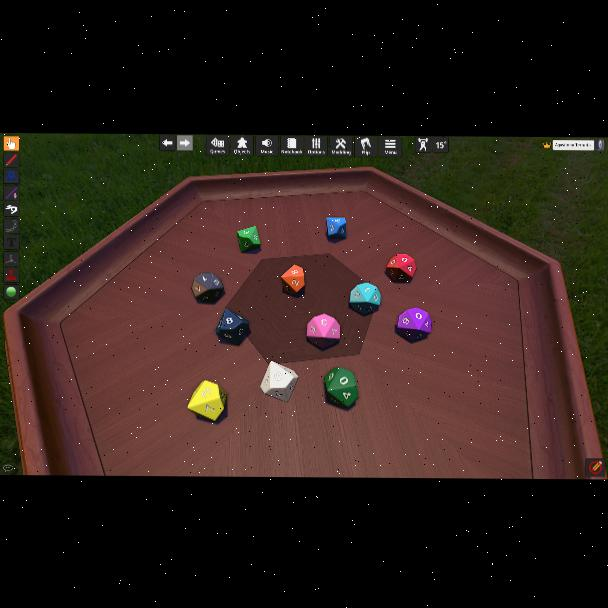d10: (188, 380, 228, 421), (261, 360, 299, 402), (324, 367, 356, 408), (216, 308, 248, 345), (398, 307, 432, 341), (307, 314, 339, 349), (192, 272, 224, 303), (350, 283, 380, 314), (386, 253, 416, 283), (281, 265, 305, 296), (238, 225, 260, 252), (326, 215, 346, 238)
